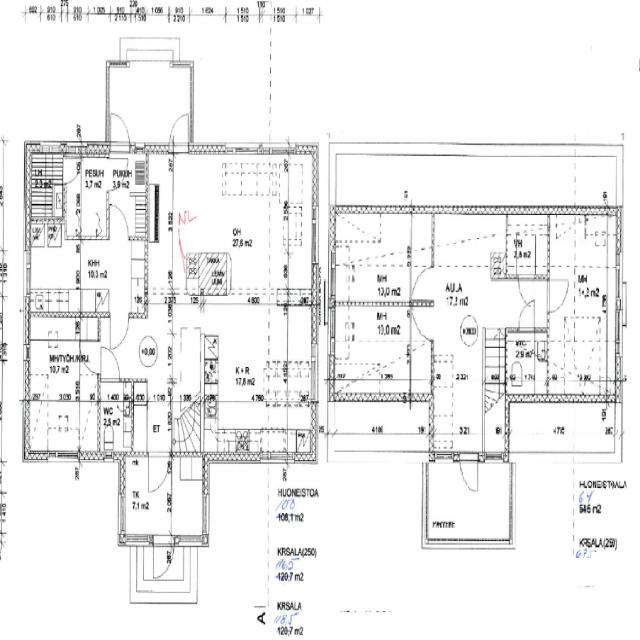door: (153, 534, 175, 583), (148, 452, 170, 494), (111, 106, 130, 154), (169, 106, 188, 154), (458, 451, 478, 496), (410, 308, 434, 343), (110, 311, 130, 349), (411, 266, 434, 299), (106, 158, 128, 190), (101, 346, 120, 382), (518, 276, 537, 312), (79, 342, 100, 374), (110, 204, 127, 239), (547, 283, 566, 312), (63, 157, 82, 185), (518, 300, 534, 332)
